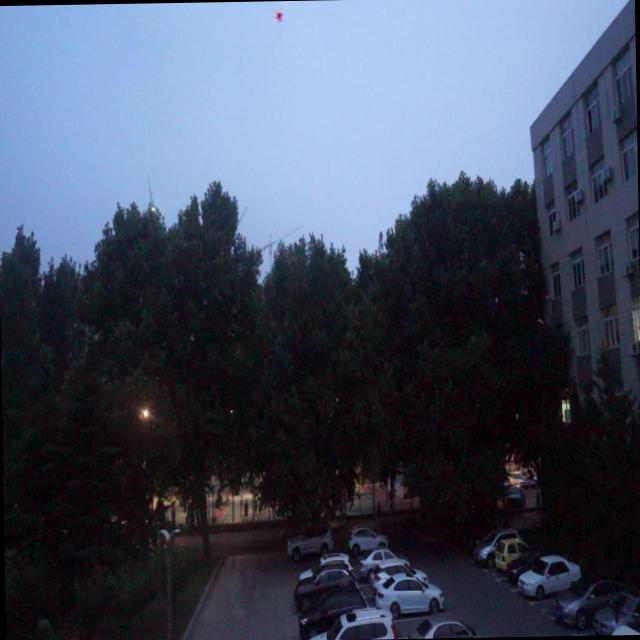drone: (272, 5, 286, 24)
